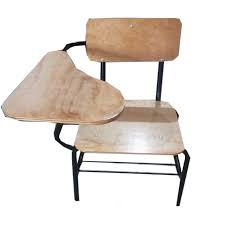desk_056.jpg: (1, 11, 195, 212)
